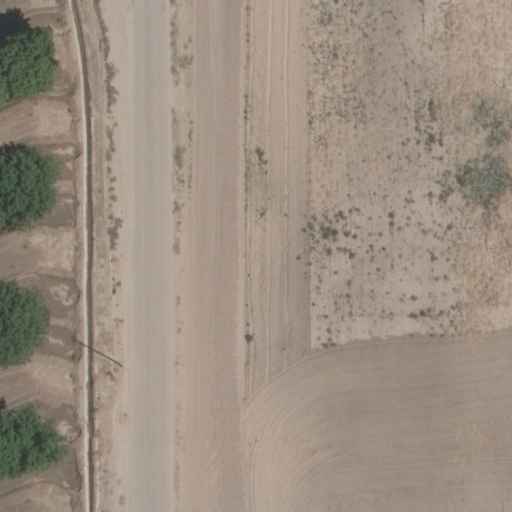DT: (107, 356, 130, 378)
